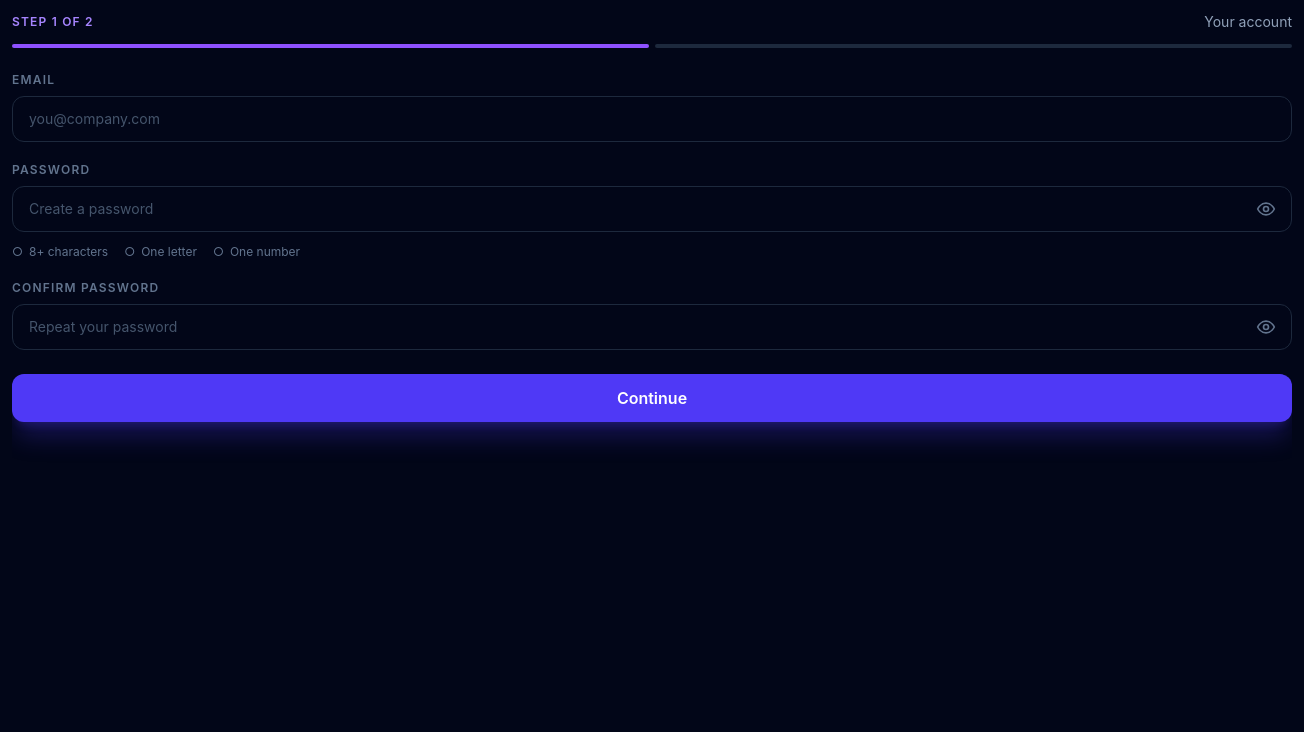
Test case: SignupForm account step › moves to step 2 once the account fields are valid
Type "jane@acme.com" into the field labelled "Email".
click(652, 119); type("jane@acme.com")  # box [12, 96, 1292, 142]
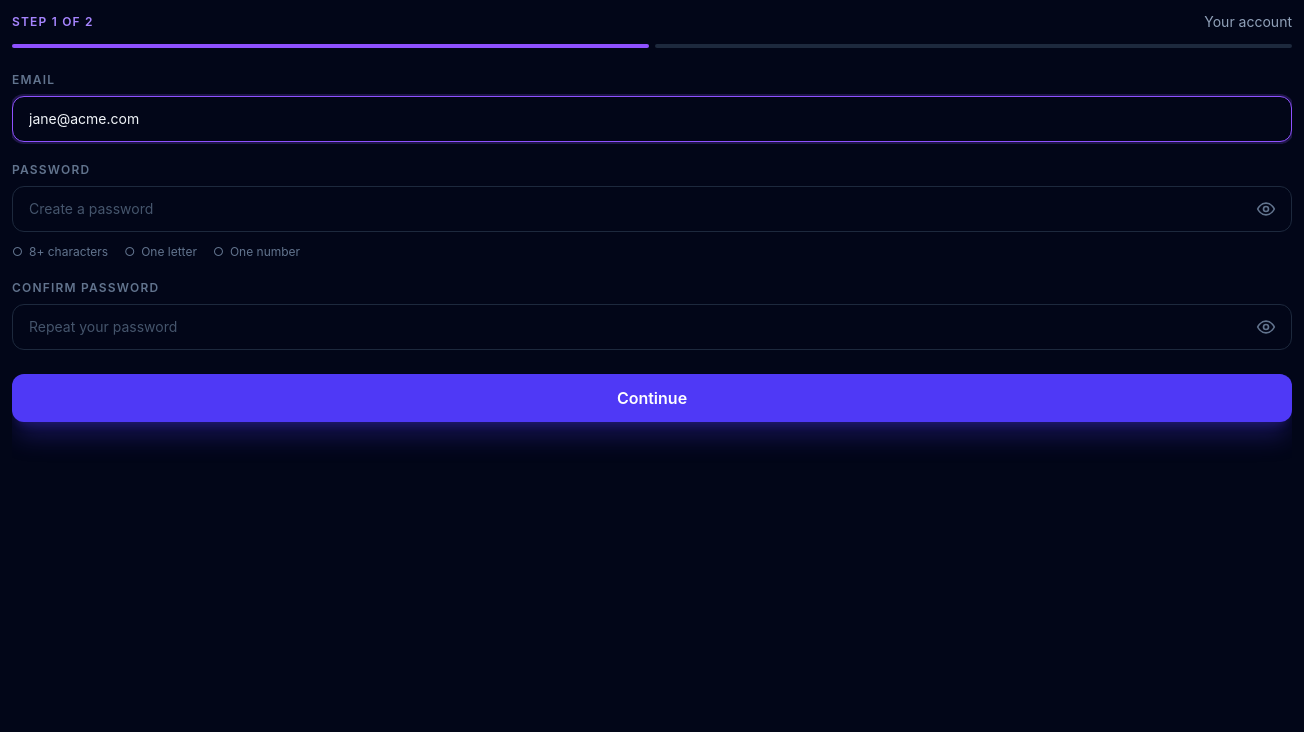
Type "hunter2secret" into the password field labelled "Password".
click(652, 209); type("hunter2secret")  # box [12, 186, 1292, 232]
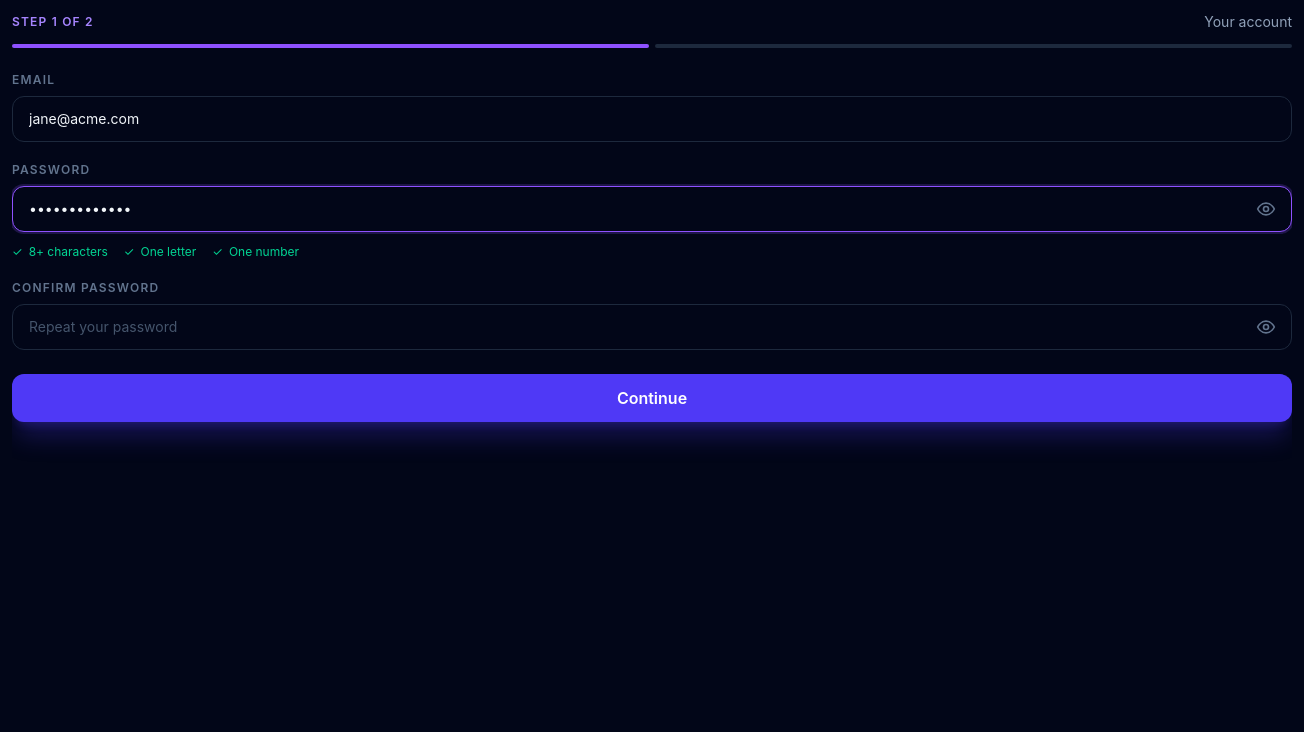
Type "hunter2secret" into the password field labelled "Confirm password".
click(652, 327); type("hunter2secret")  # box [12, 304, 1292, 350]
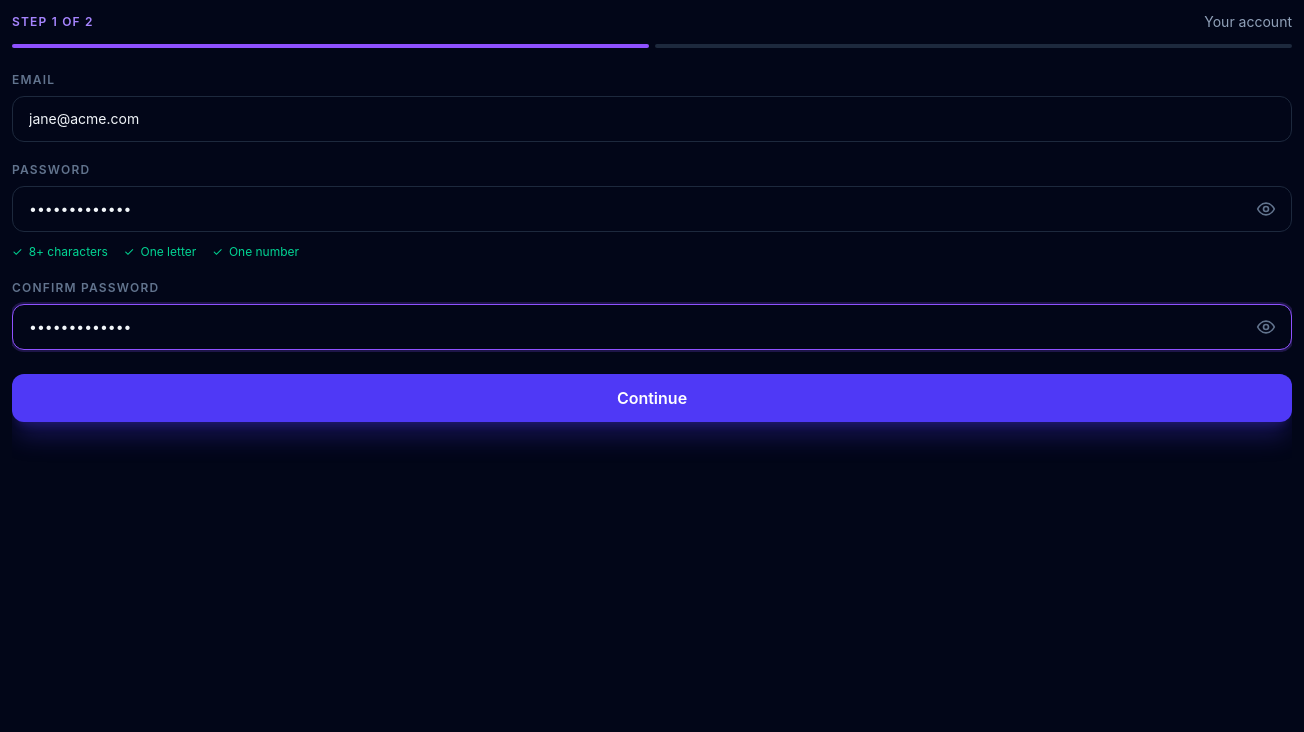
Click the button "Continue".
click(652, 398)  # box [12, 374, 1292, 422]
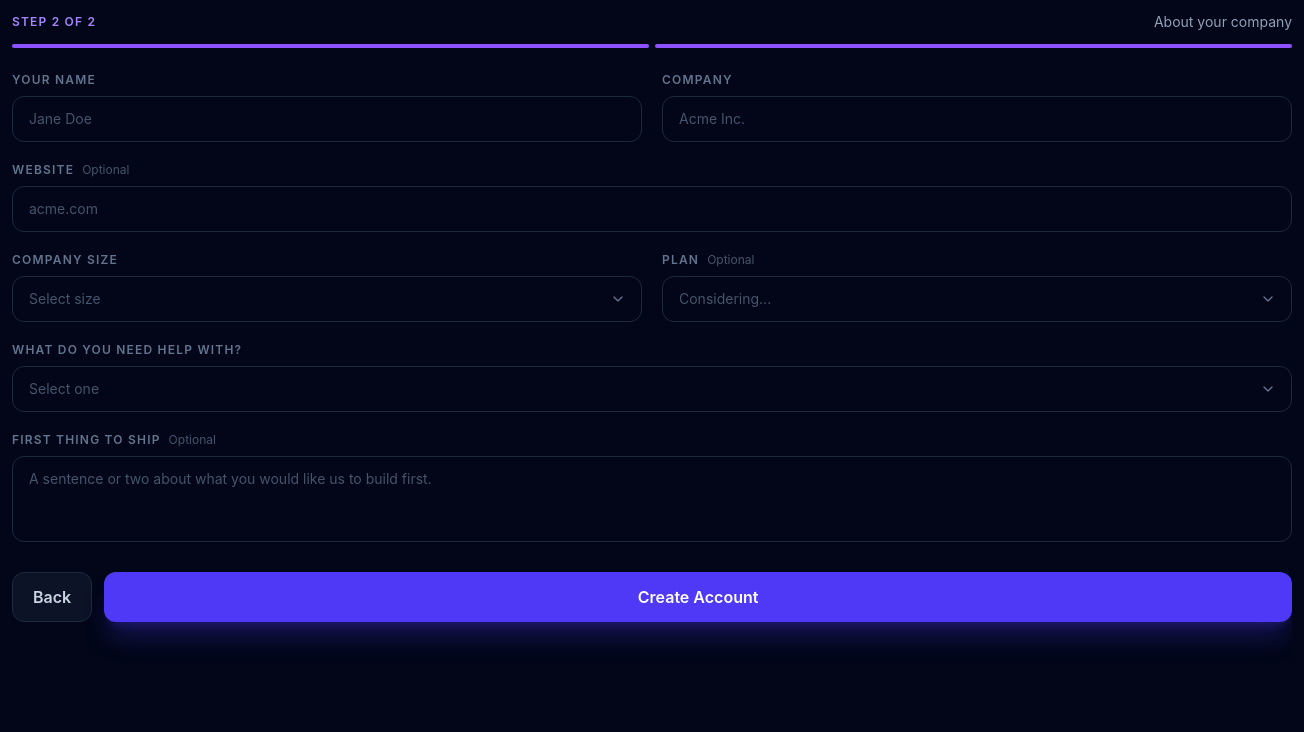
Now the text "Step 2 of 2" is shown, box [12, 14, 96, 30]
Now the field labelled "Your name" is shown, box [12, 96, 642, 142]
